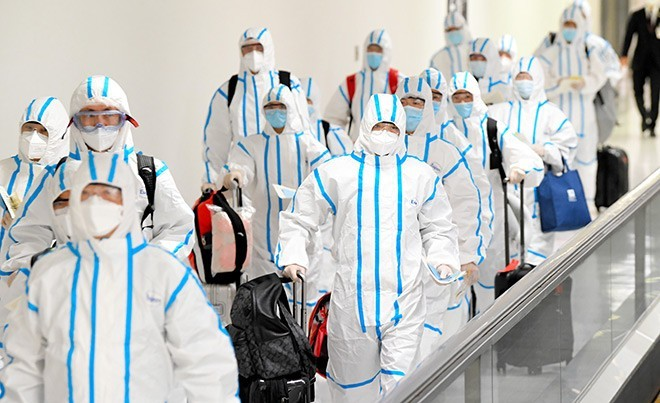Coverall: (1, 152, 241, 403), (276, 93, 461, 401), (2, 71, 196, 269), (481, 56, 580, 283), (199, 25, 312, 221), (221, 84, 330, 280), (397, 76, 496, 276), (534, 2, 622, 222), (322, 29, 414, 179), (1, 95, 70, 263)
Gloves: (281, 263, 309, 283), (461, 261, 481, 288), (222, 168, 244, 191), (505, 168, 526, 188), (434, 264, 453, 280), (199, 181, 215, 195)
Goggles: (75, 107, 130, 134)
with_mask: (76, 183, 125, 238), (78, 105, 121, 153), (396, 93, 426, 138), (366, 120, 400, 156), (18, 122, 49, 161), (53, 189, 72, 239), (242, 41, 265, 77), (261, 102, 288, 132), (450, 89, 475, 119), (514, 71, 534, 100), (364, 44, 383, 71), (469, 52, 486, 81), (429, 88, 443, 115), (445, 26, 462, 46), (561, 22, 576, 43), (498, 50, 511, 73)
